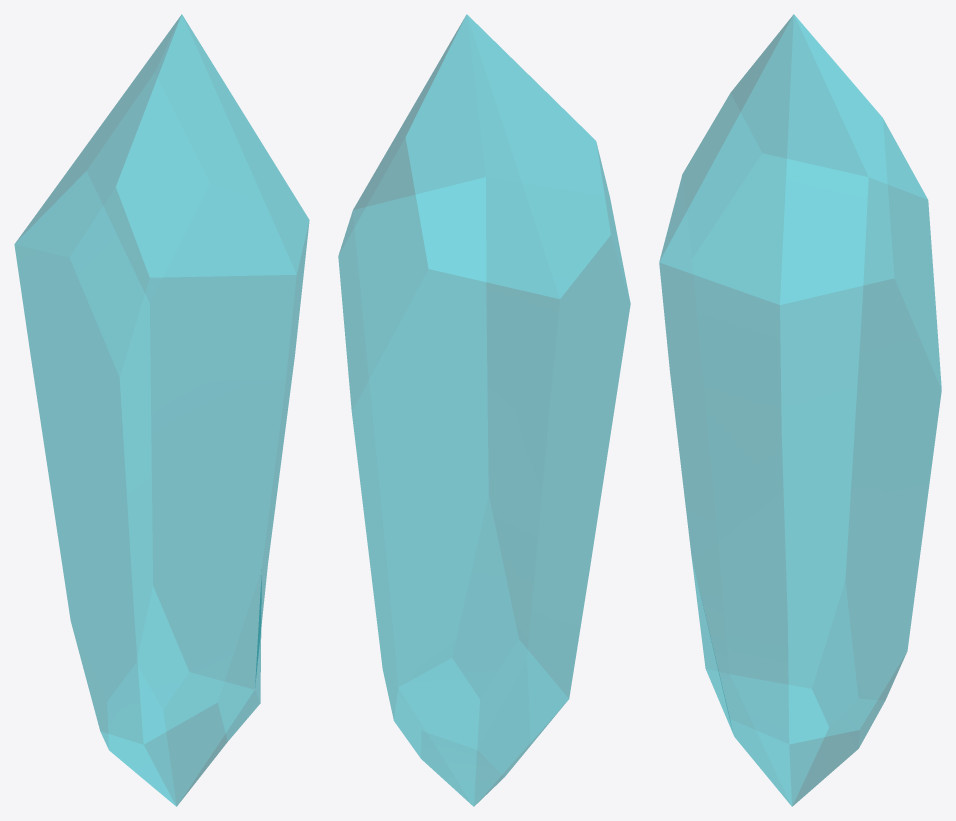
File: Crystal2.fbx
The picture shows the model from 3 angles, left to right: view 1: azimuth 30°, elevation 25°; view 2: azimuth 150°, elevation 25°; view 3: azimuth 270°, elevation 25°; orthographic projection.
Visible parts, largest first — view 1: Crystal2; view 2: Crystal2; view 3: Crystal2.
Part boxes in pixels (<box>): Crystal2: <box>14,14,309,806</box>; Crystal2: <box>338,14,630,806</box>; Crystal2: <box>659,14,941,806</box>.
Bounding box in the file's own units: 0.6269 × 1.89 × 0.6072.
